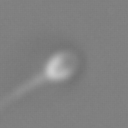normal: (1, 71, 44, 110)
